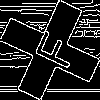F: (25, 25, 79, 72)
